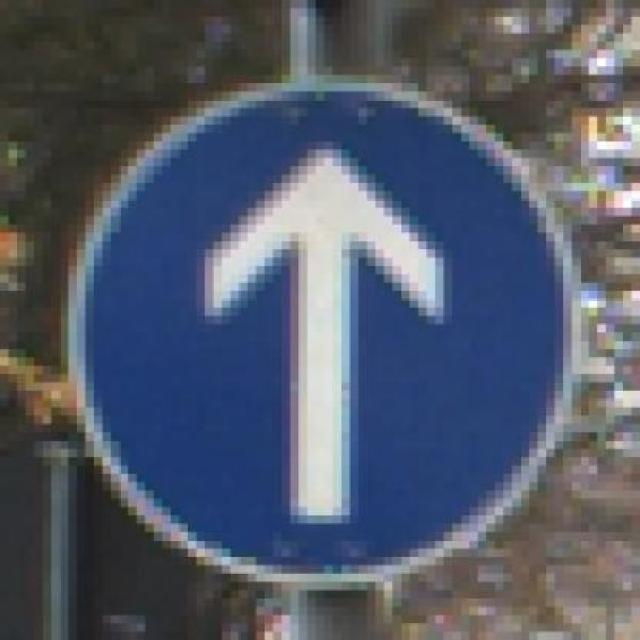Straight Ahead Only: (42, 66, 598, 599)
